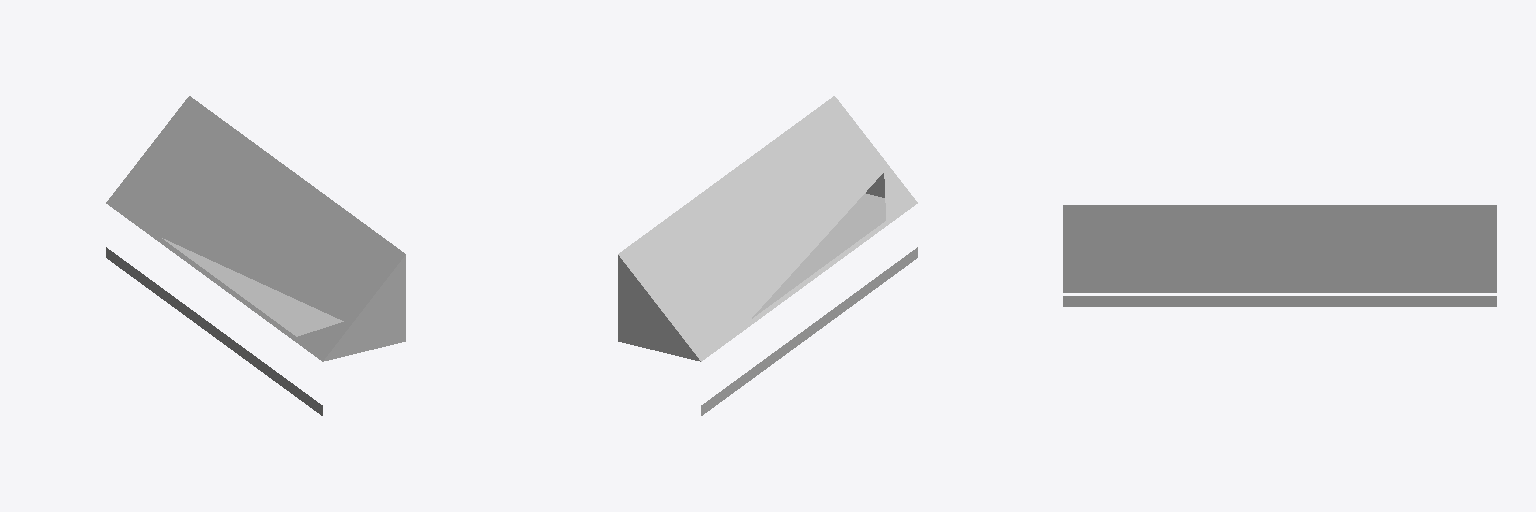
The model's file is Cangilion.obj.
3 views of the same model, side by side, from view 1: azimuth 30°, elevation 25°; view 2: azimuth 150°, elevation 25°; view 3: azimuth 270°, elevation 25° (orthographic).
Size of the model in its own units: 8 by 13 by 36.